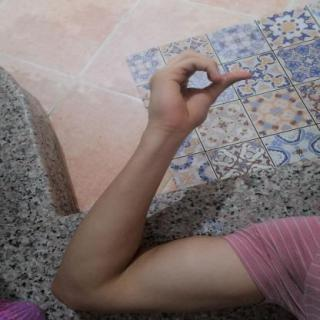WAW: (135, 44, 262, 142)
